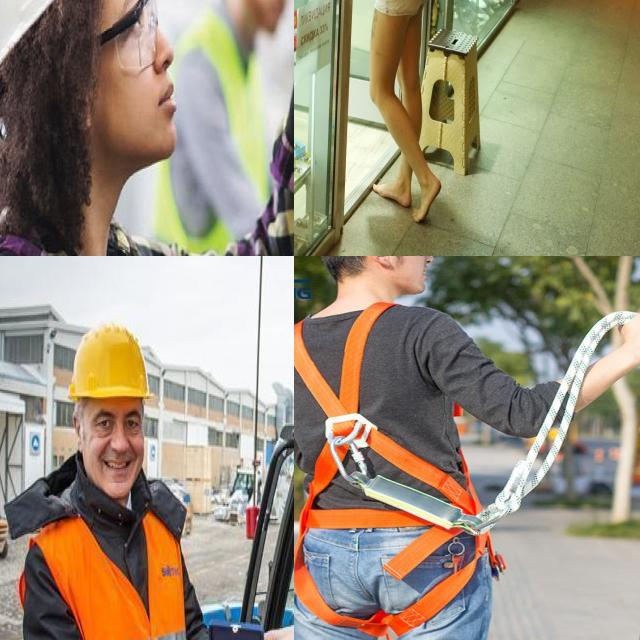Barefoots: (412, 175, 442, 222), (373, 183, 412, 207)
Harness: (294, 304, 477, 629)
No_Ear-Protection: (70, 408, 84, 446), (367, 256, 392, 268)
No_Glasses: (86, 402, 145, 439)
face_nomask: (89, 0, 186, 180), (81, 402, 150, 498)
glasses: (107, 0, 162, 82)
hand_noglove: (258, 613, 294, 640)
head_helmet: (66, 329, 153, 407)
person: (18, 319, 203, 640), (0, 0, 187, 256), (178, 0, 294, 252)
vest: (43, 507, 207, 640), (181, 0, 271, 234)
